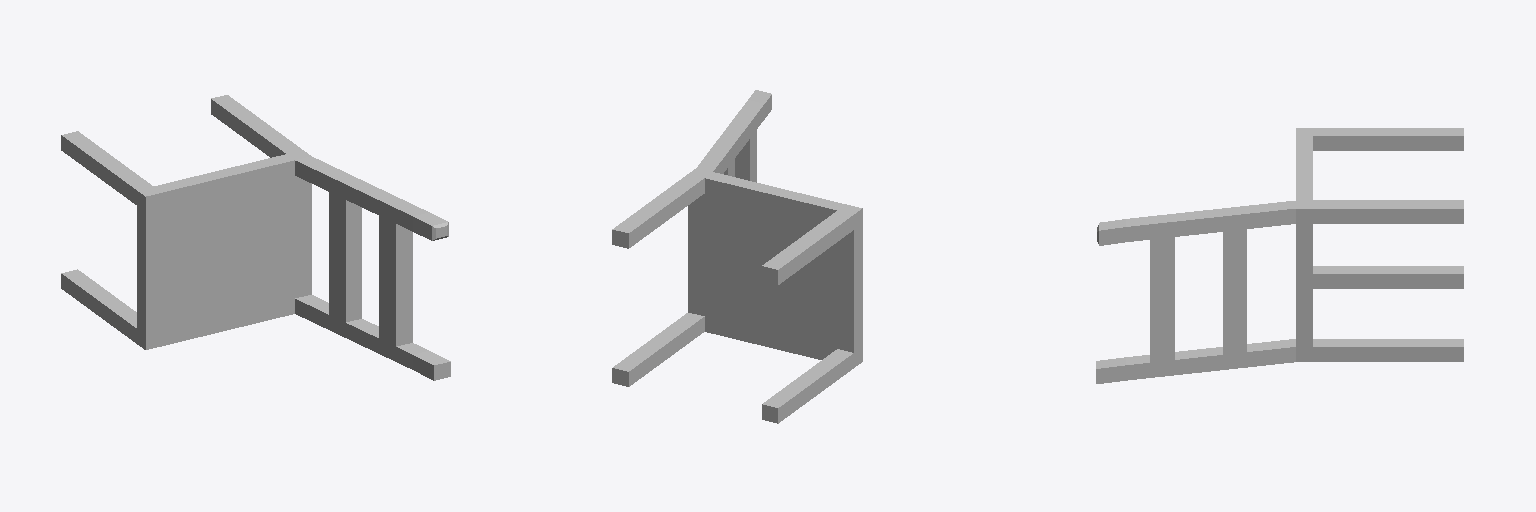
File: chaise.blend.obj
3 renders of one model, left to right at view 1: azimuth 30°, elevation 25°; view 2: azimuth 150°, elevation 25°; view 3: azimuth 270°, elevation 25°, orthographic.
Size of the model in its own units: 2.93 by 2.14 by 4.56.